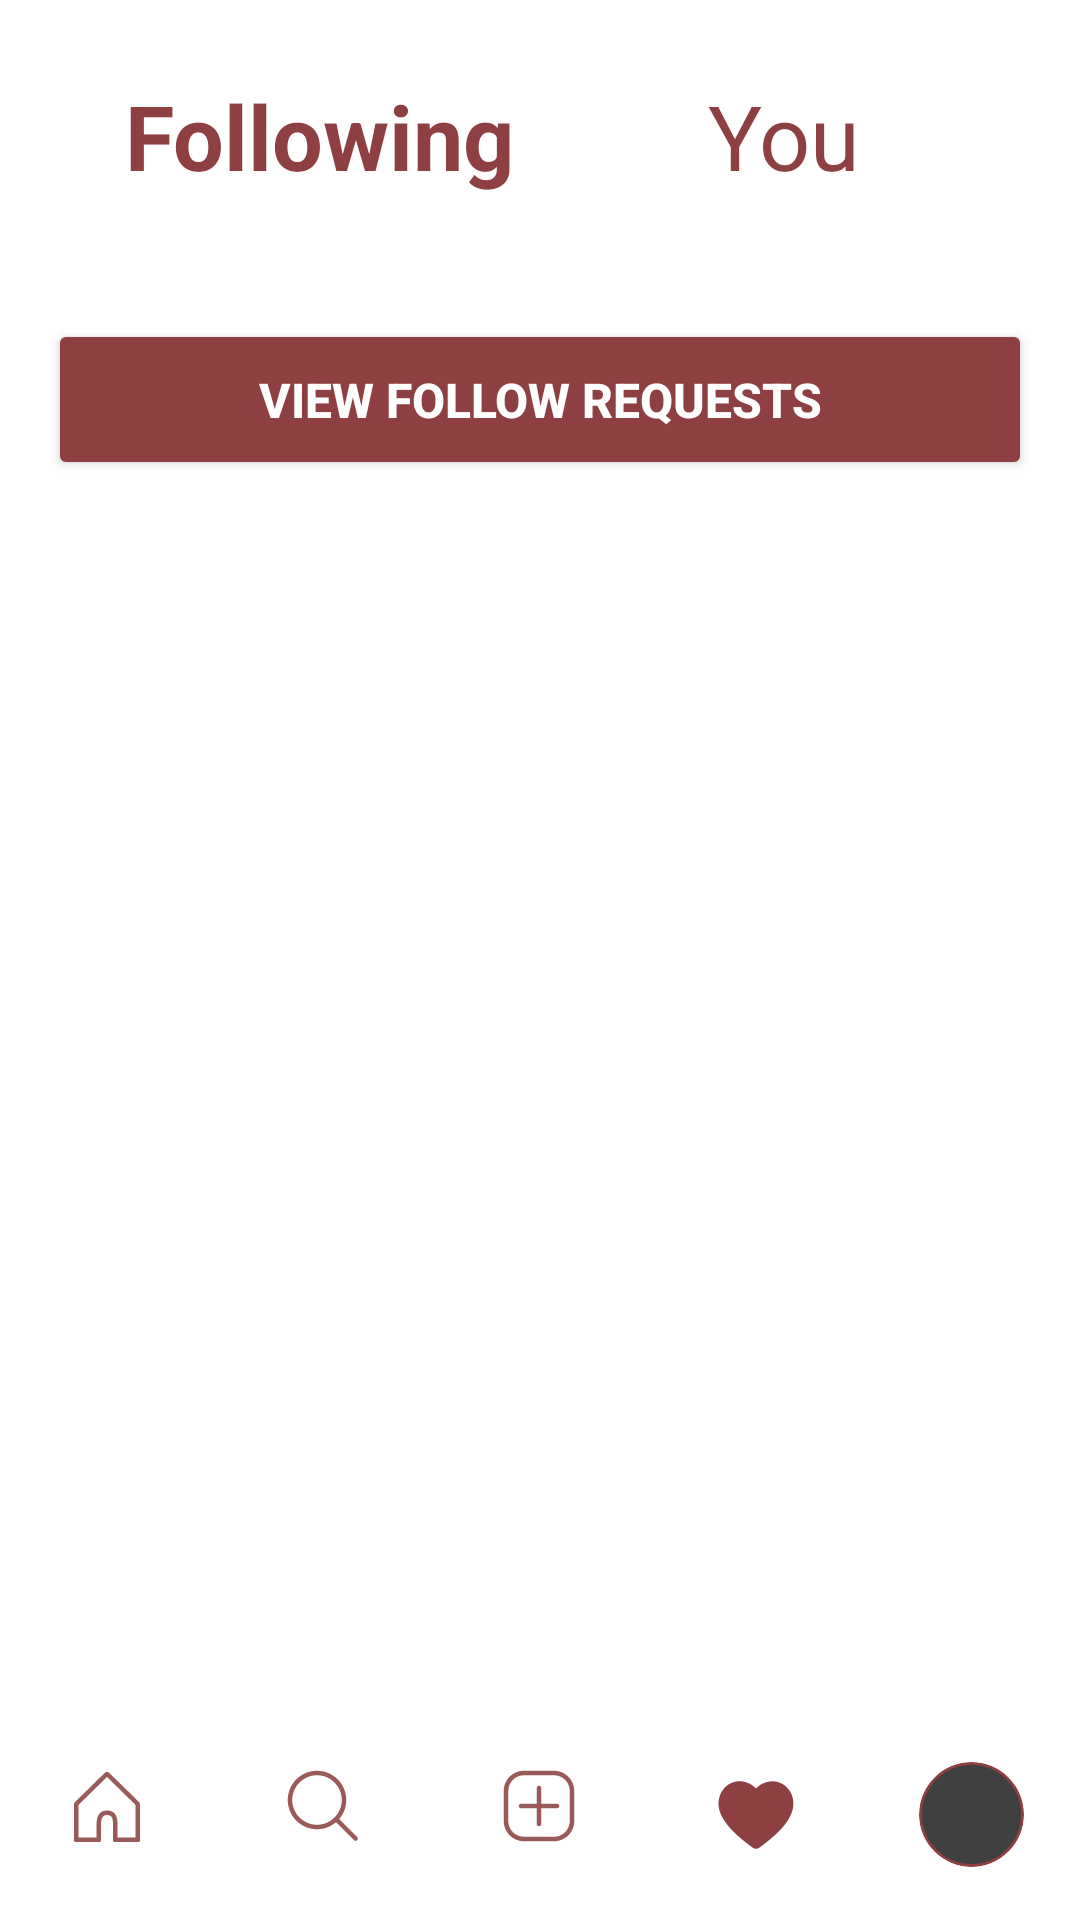

Screen size 1080px×1920px. Icon name, then its center in pixels as [x,y]:
notification: [756,1815]
plus: [539,1806]
search: [322,1805]
